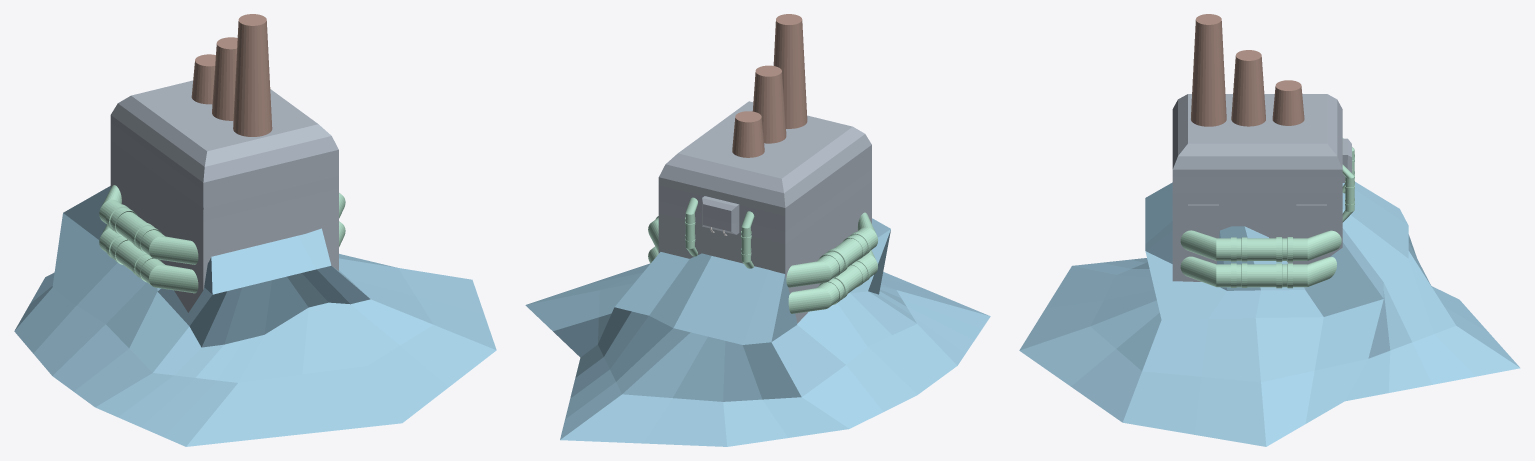
Rendered from icebergIndustria6.fbx.
The picture shows the model from 3 angles, left to right: view 1: azimuth 30°, elevation 25°; view 2: azimuth 150°, elevation 25°; view 3: azimuth 270°, elevation 25°; orthographic projection. The views are drawn at different scales.
Visible parts, largest first — view 1: Cube, Cube.001, Cylinder.004, Cylinder.001, Cylinder, Cylinder.005, Cylinder.006; view 2: Cube, Cube.001, Cylinder.004, Cylinder.001, Cylinder, Cylinder.005, Cylinder.006, Cylinder.002; view 3: Cube, Cube.001, Cylinder.001, Cylinder, Cylinder.004, Cylinder.005, Cylinder.006, Cylinder.002.
Boxes of the visible parts, x1=… form: Cube: x1=14, y1=186, x2=496, y2=446; Cube.001: x1=110, y1=80, x2=338, y2=312; Cylinder.004: x1=233, y1=14, x2=272, y2=136; Cylinder.001: x1=99, y1=185, x2=345, y2=264; Cylinder: x1=99, y1=221, x2=345, y2=293; Cylinder.005: x1=212, y1=37, x2=237, y2=120; Cylinder.006: x1=191, y1=54, x2=215, y2=104; Cube: x1=525, y1=218, x2=990, y2=446; Cube.001: x1=658, y1=101, x2=871, y2=323; Cylinder.004: x1=773, y1=14, x2=807, y2=128; Cylinder.001: x1=648, y1=212, x2=877, y2=287; Cylinder: x1=648, y1=246, x2=877, y2=313; Cylinder.005: x1=752, y1=65, x2=786, y2=143; Cylinder.006: x1=732, y1=111, x2=764, y2=157; Cylinder.002: x1=685, y1=197, x2=754, y2=268; Cube: x1=1019, y1=182, x2=1520, y2=446; Cube.001: x1=1172, y1=94, x2=1351, y2=281; Cylinder.001: x1=1180, y1=230, x2=1341, y2=262; Cylinder: x1=1180, y1=256, x2=1336, y2=288; Cylinder.004: x1=1191, y1=14, x2=1226, y2=126; Cylinder.005: x1=1231, y1=50, x2=1265, y2=126; Cylinder.006: x1=1272, y1=80, x2=1304, y2=125; Cylinder.002: x1=1342, y1=138, x2=1354, y2=222.
Bounding box in the file's own units: 360 × 281 × 406.
